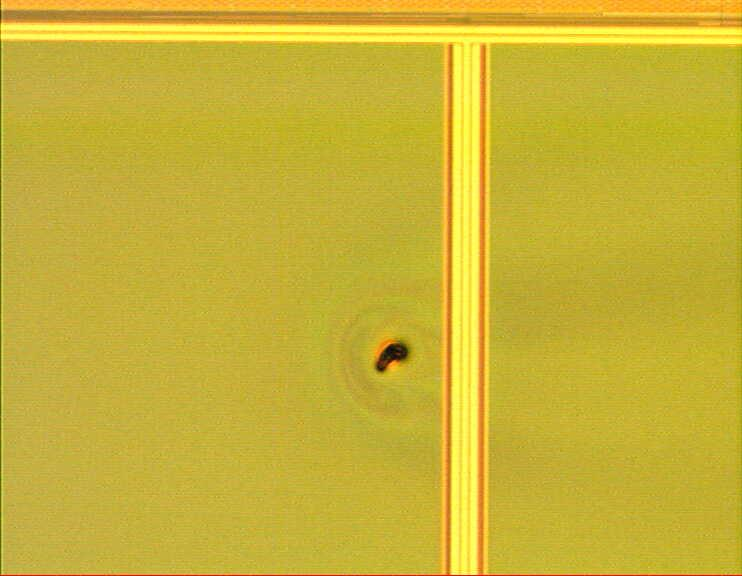PIQ PARTICLE: (373, 335, 414, 380)
